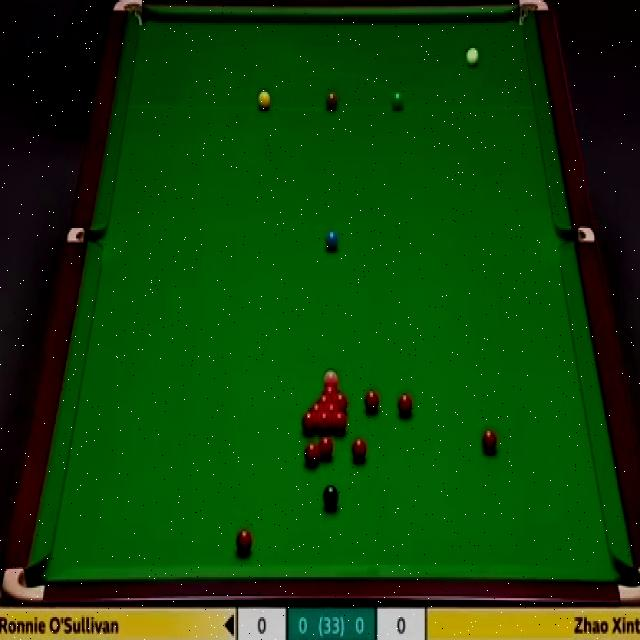black-ball: (323, 482, 340, 512)
blue-ball: (323, 229, 338, 253)
brown-ball: (325, 90, 338, 110)
green-ball: (390, 89, 404, 111)
pink-ball: (322, 367, 340, 384)
red-ball: (349, 438, 369, 466), (481, 426, 499, 456), (397, 394, 414, 420), (234, 530, 251, 554), (304, 442, 320, 467), (364, 390, 380, 414), (331, 412, 347, 435), (317, 438, 334, 458), (302, 413, 317, 435), (317, 412, 332, 433), (333, 394, 347, 413), (307, 403, 324, 417), (322, 402, 340, 415), (322, 384, 338, 396), (316, 393, 332, 403)
white-ball: (465, 44, 480, 68)
yellow-ball: (258, 90, 270, 111)
